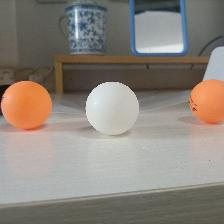WhiteBall: (85, 81, 139, 135)
YellowBall: (0, 81, 51, 129), (189, 79, 224, 124)
